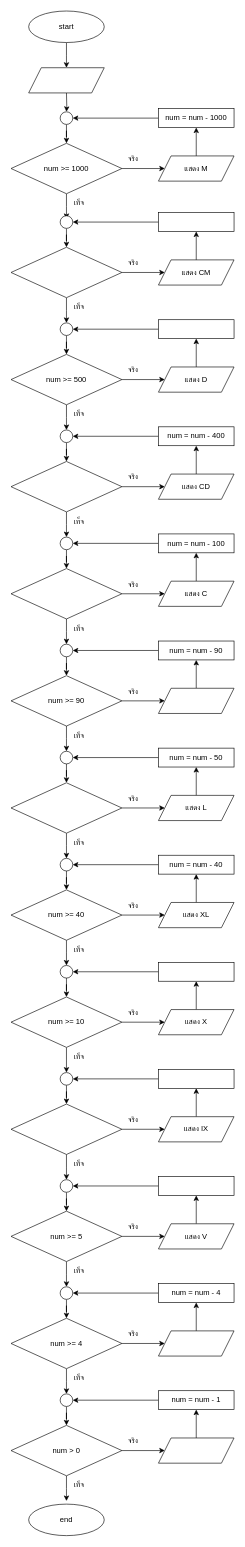
The diagram is 245 pixels wide and 1547 high, and some of its shapes have lost their labels. Each missing label, with the centre of its shape:
num = num - 10: [196,971]
num = num - 5: [196,1185]
num = num - 500: [196,329]
num = num - 9: [196,1078]
num = num - 900: [196,222]
num >= 100: [66,593]
num >= 400: [66,486]
num >= 50: [66,807]
num >= 9: [66,1128]
num >= 900: [66,272]
รับค่า num: [66,80]
แสดง I: [196,1450]
แสดง IV: [196,1343]
แสดง XC: [196,700]
